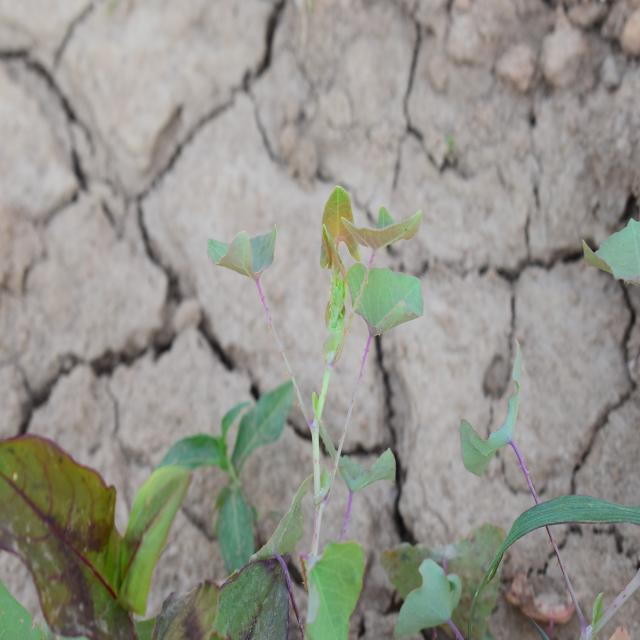Asiatic_Smartweed: (210, 171, 453, 621)
